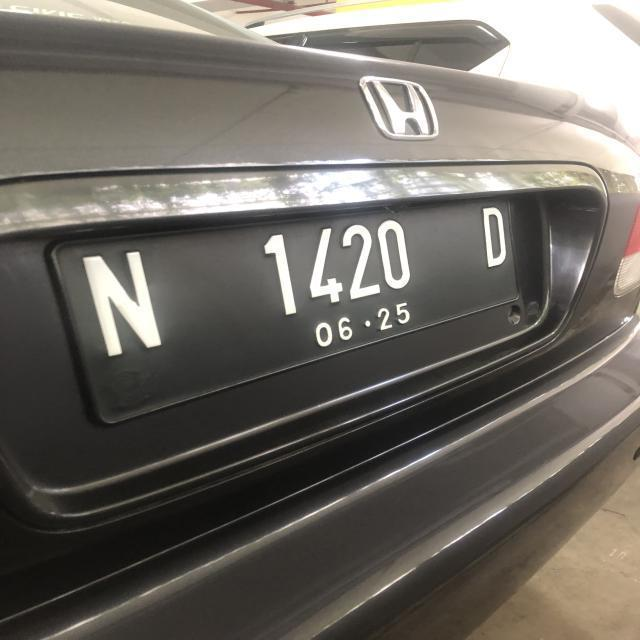0: (378, 219, 419, 288)
1: (258, 230, 297, 319)
2: (340, 220, 382, 302)
4: (302, 230, 343, 307)
D: (477, 198, 515, 274)
N: (78, 252, 164, 354)
